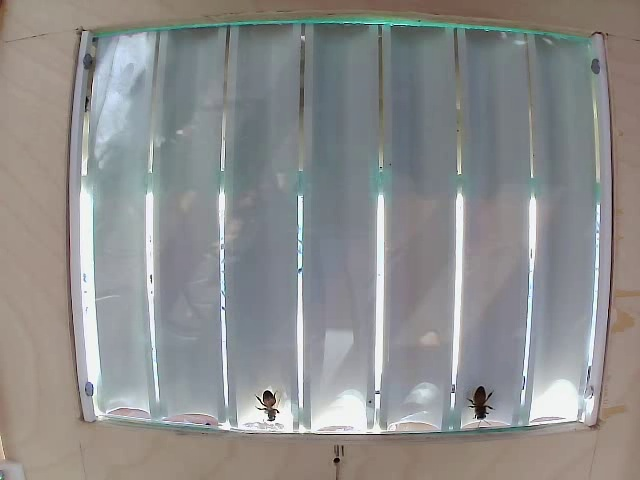bee: (244, 381, 286, 415), (465, 378, 496, 414)
